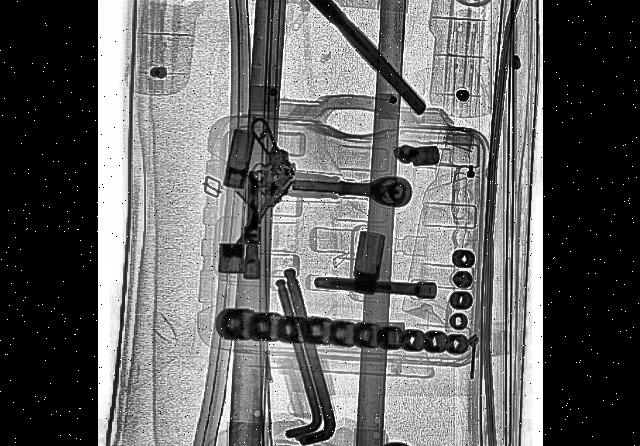Gun: (187, 108, 301, 262)
Pliers: (373, 434, 466, 446)
